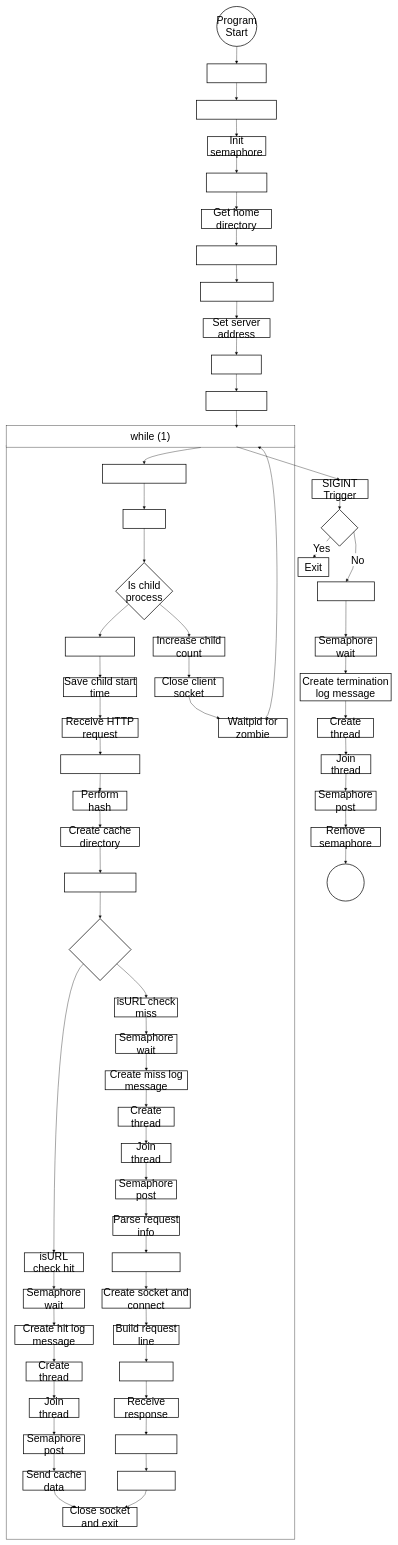
Image size: 398x1545. Some labels were removed from this diagram. The shapes that lost their labels are listed below. From the top down, each one's box as (x1, y1, x2, y2) in pixels, then its label:
(206, 63, 266, 83): Save start time
(196, 100, 276, 119): Register SIGINT handler
(206, 173, 267, 192): Save parent PID
(196, 245, 276, 265): Create logfile directory
(200, 282, 273, 301): Create server socket
(211, 355, 261, 374): Bind socket
(205, 391, 267, 411): Listen for client
(102, 464, 186, 483): Accept client connection
(122, 509, 166, 528): Call fork
(321, 509, 358, 546): Is child
(317, 581, 374, 601): Save end time
(65, 637, 135, 656): Close server socket
(60, 754, 140, 774): Check method and URL
(64, 873, 136, 892): Check for cache file
(327, 863, 364, 901): Program Exit
(69, 918, 131, 981): Cache hit or miss
(112, 1252, 180, 1272): Get server address
(119, 1362, 173, 1381): Send request
(115, 1434, 177, 1454): Send to browser
(117, 1471, 175, 1490): Write to cache
